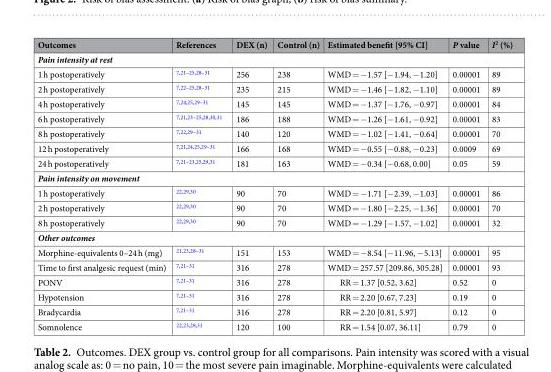table: (36, 37, 512, 332)
table column: (36, 37, 170, 332), (322, 37, 446, 332), (170, 37, 228, 332), (271, 37, 322, 332), (228, 37, 271, 332), (446, 37, 485, 332), (485, 37, 512, 332)
table column header: (36, 37, 512, 51)
table projected row header: (36, 51, 512, 66), (36, 170, 512, 185), (36, 229, 512, 244)
table row: (36, 51, 512, 66), (36, 66, 512, 81), (36, 81, 512, 96), (36, 110, 512, 125), (36, 125, 512, 140), (36, 140, 512, 155), (36, 155, 512, 170), (36, 170, 512, 185), (36, 185, 512, 200), (36, 214, 512, 229), (36, 229, 512, 244), (36, 244, 512, 259), (36, 259, 512, 274), (36, 274, 512, 289), (36, 289, 512, 304), (36, 37, 512, 51), (36, 96, 512, 110), (36, 200, 512, 214), (36, 304, 512, 318), (36, 318, 512, 332)
